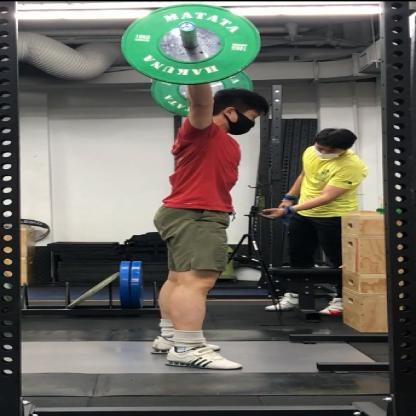Barbell: (114, 0, 270, 84)
